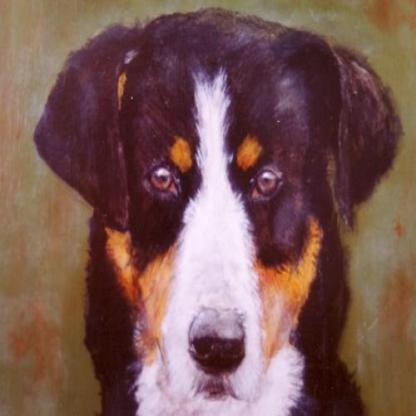Appenzeller: (32, 4, 401, 414)
